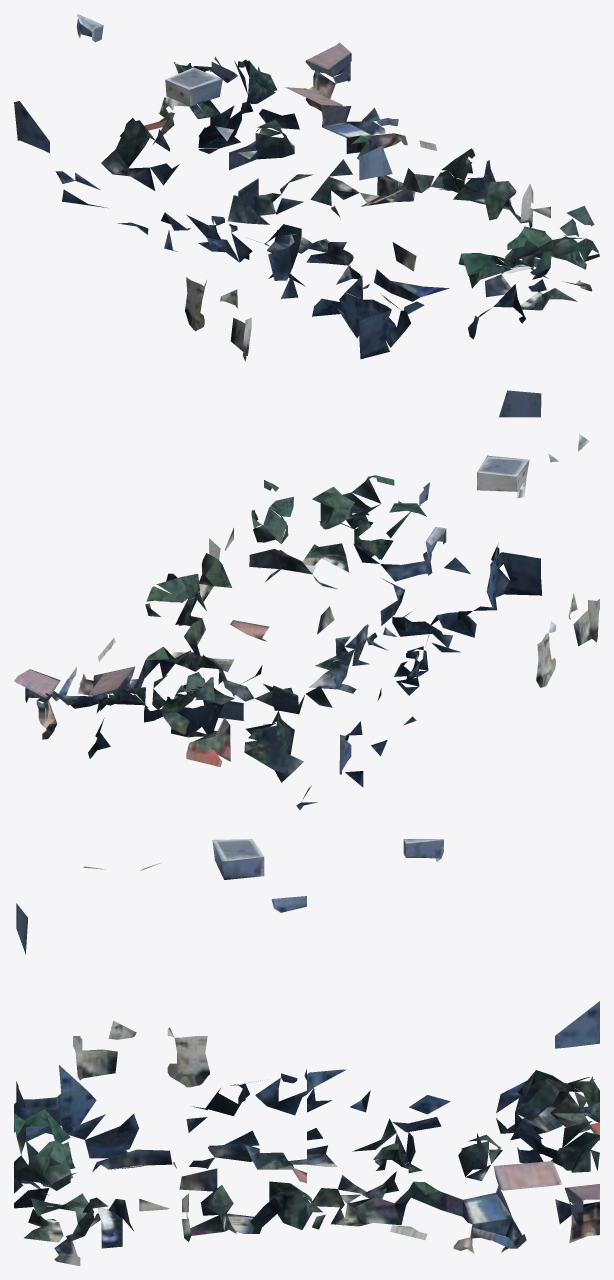
3 renders of one model, top to bottom at view 1: azimuth 30°, elevation 25°; view 2: azimuth 150°, elevation 25°; view 3: azimuth 270°, elevation 25°, orthographic. The views are drawn at different scales.
Visible parts, largest first — view 1: 3043627270437041750_1; view 2: 3043627270437041750_1; view 3: 3043627270437041750_1.
Boxes of the visible parts, <box> form: 3043627270437041750_1: <box>14,14,599,361</box>; 3043627270437041750_1: <box>14,390,599,809</box>; 3043627270437041750_1: <box>14,839,599,1265</box>.
Bounding box in the file's own units: 55.24 × 36.35 × 76.53.
Materials: 1 (1 with a texture image).
